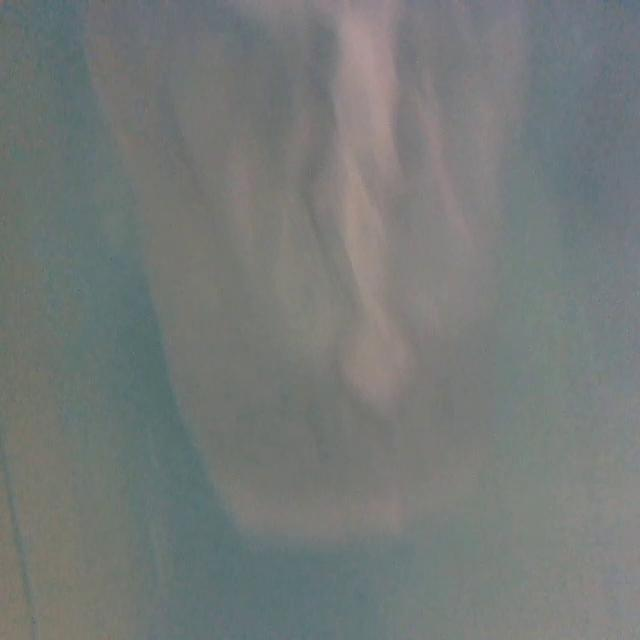plastic bags: (75, 0, 531, 565)
